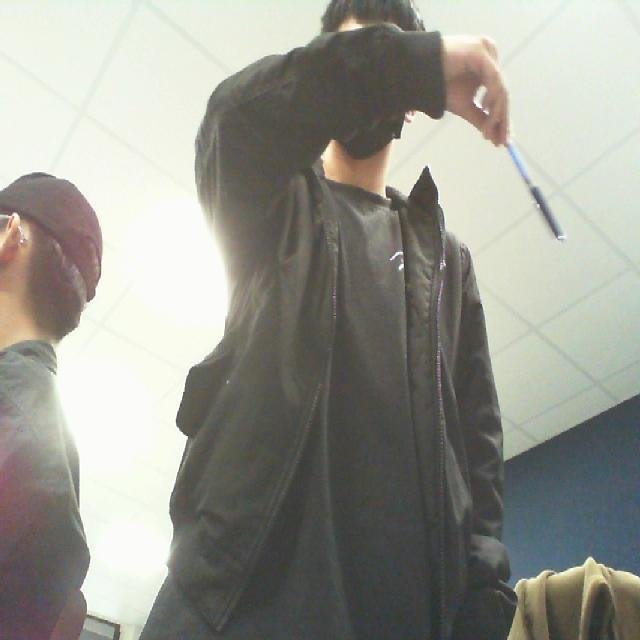Pen: (478, 132, 577, 256)
